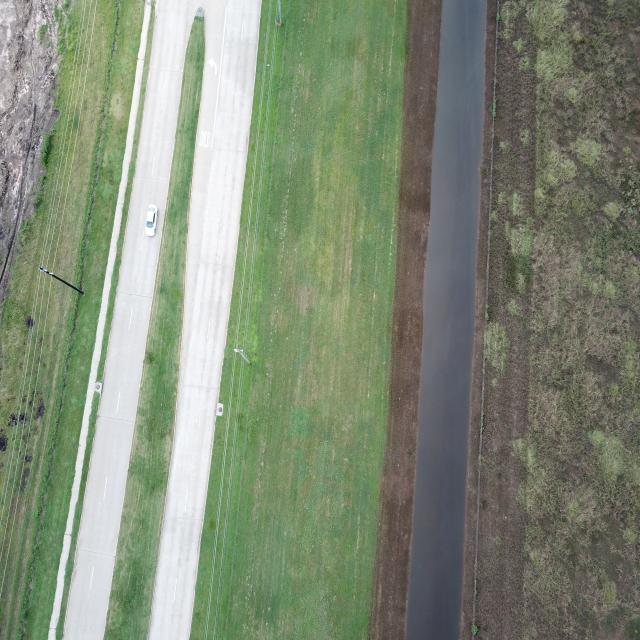fire: (406, 0, 487, 640)
